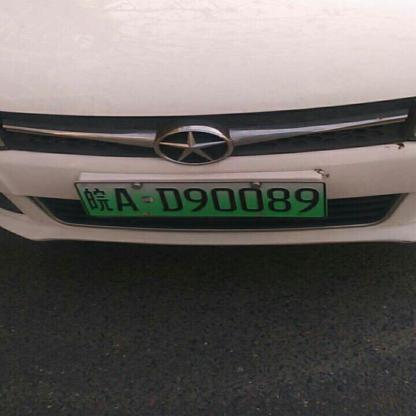lp: (75, 181, 326, 216)
